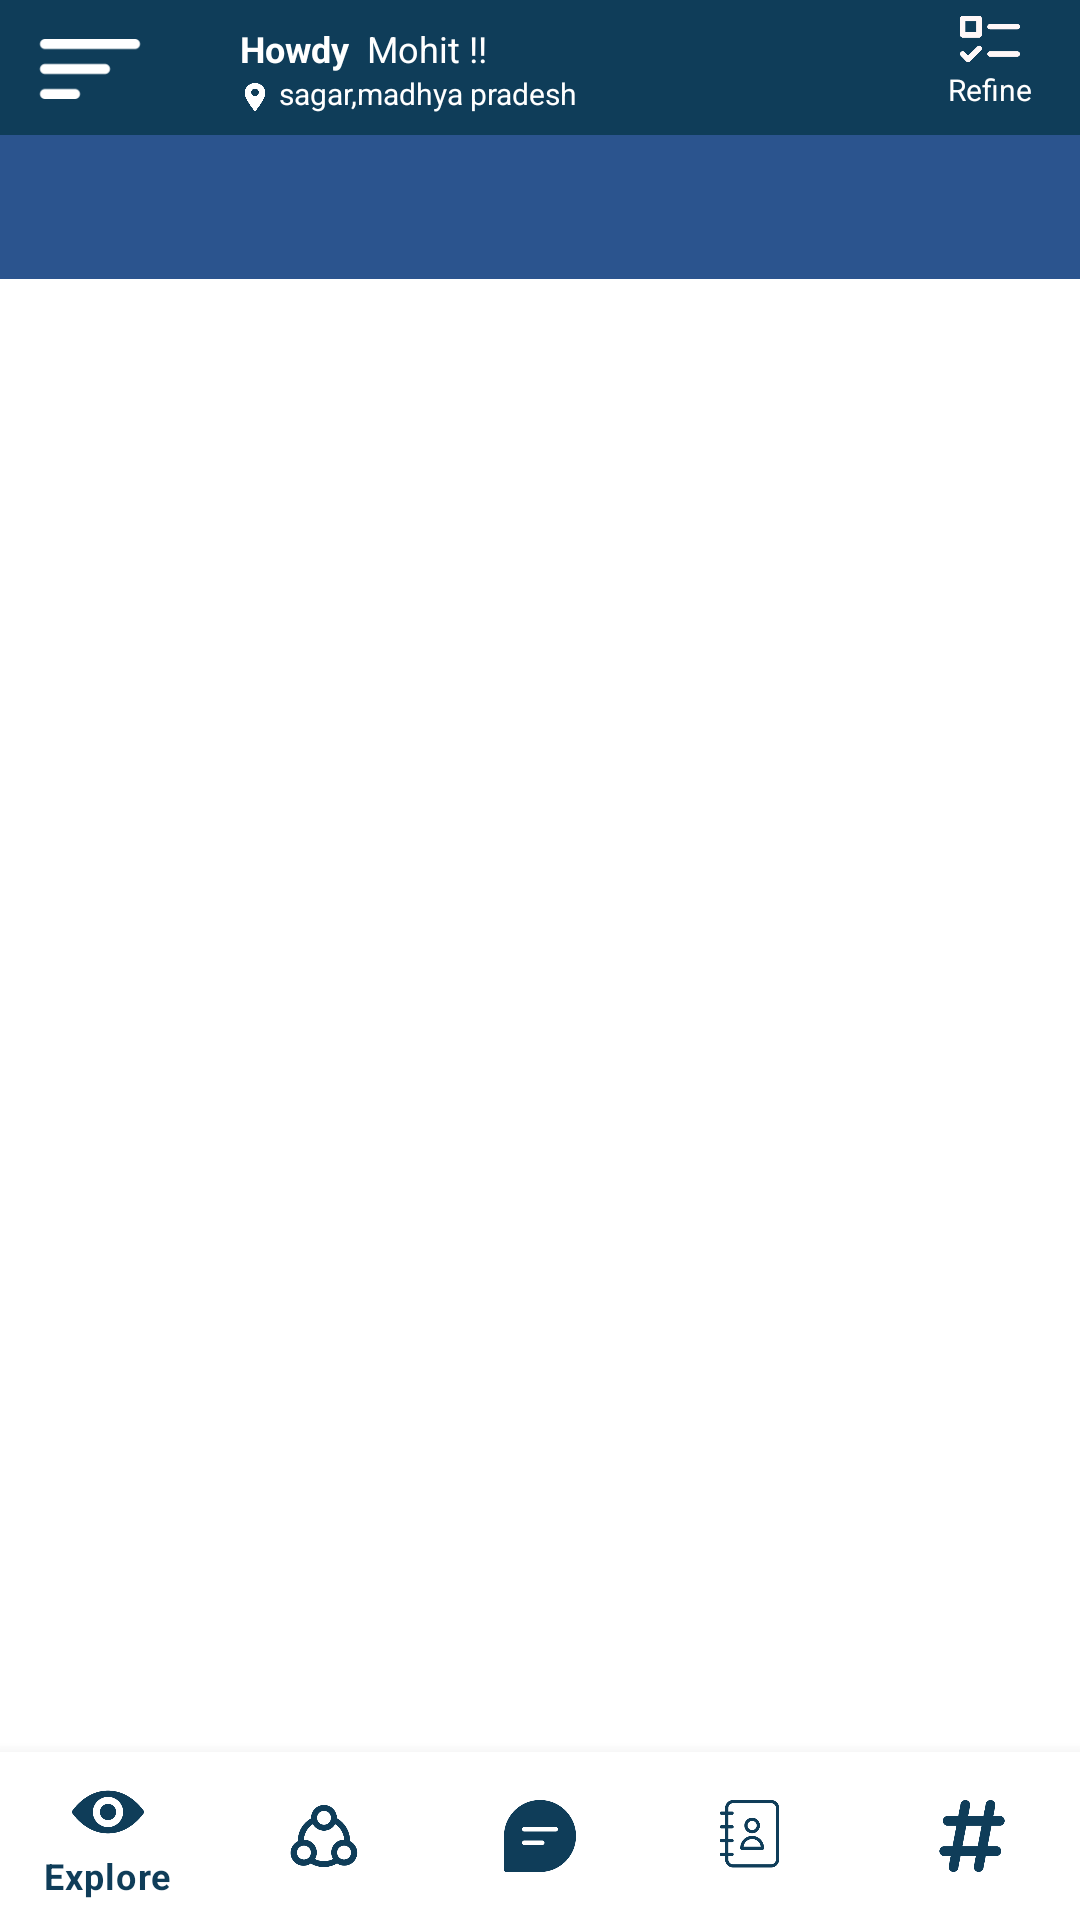

Named icons in this screenshot (1080px x 1920px) and their centers, (x,y):
checklist: (990,39)
sort: (90,69)
